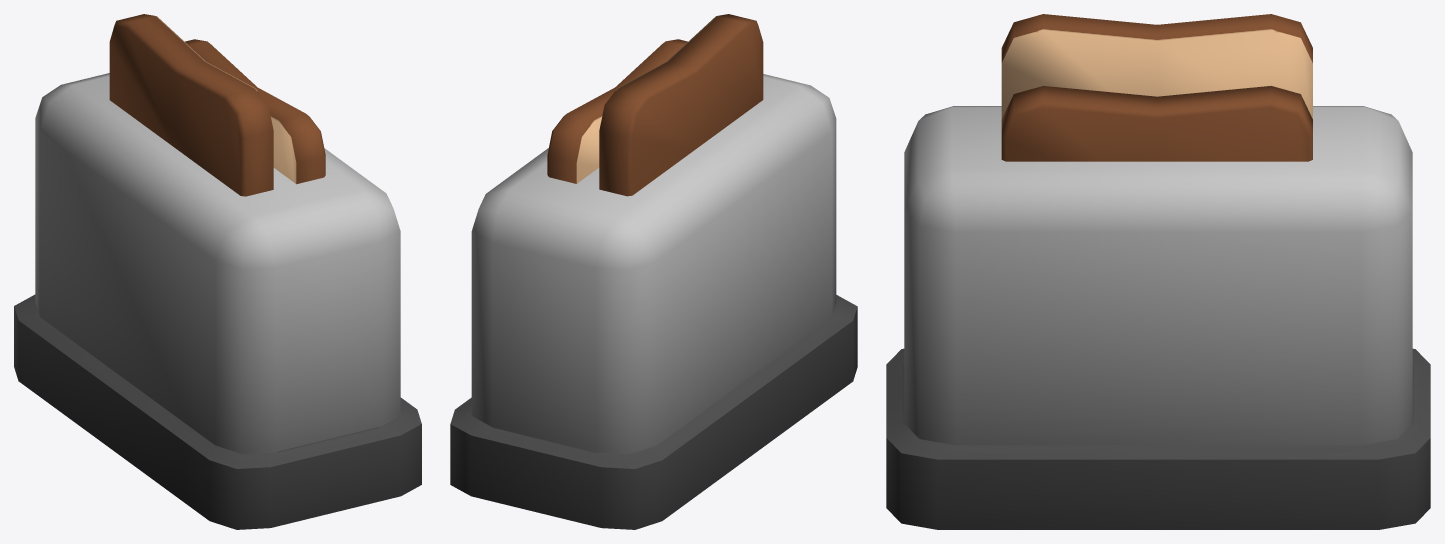
Rendered from Toaster.fbx.
3 views of the same model, side by side, from view 1: azimuth 30°, elevation 25°; view 2: azimuth 150°, elevation 25°; view 3: azimuth 270°, elevation 25° (orthographic). The views are drawn at different scales.
Parts seen in each view (by area): view 1: Toaster; view 2: Toaster; view 3: Toaster.
Part boxes in pixels (x1,y1,x2,y2): Toaster: (14,14,421,529); Toaster: (450,14,857,529); Toaster: (886,14,1430,529).
Size of the model in its own units: 0.2907 by 0.5039 by 0.5716.
Materials: 1 (1 with a texture image).
